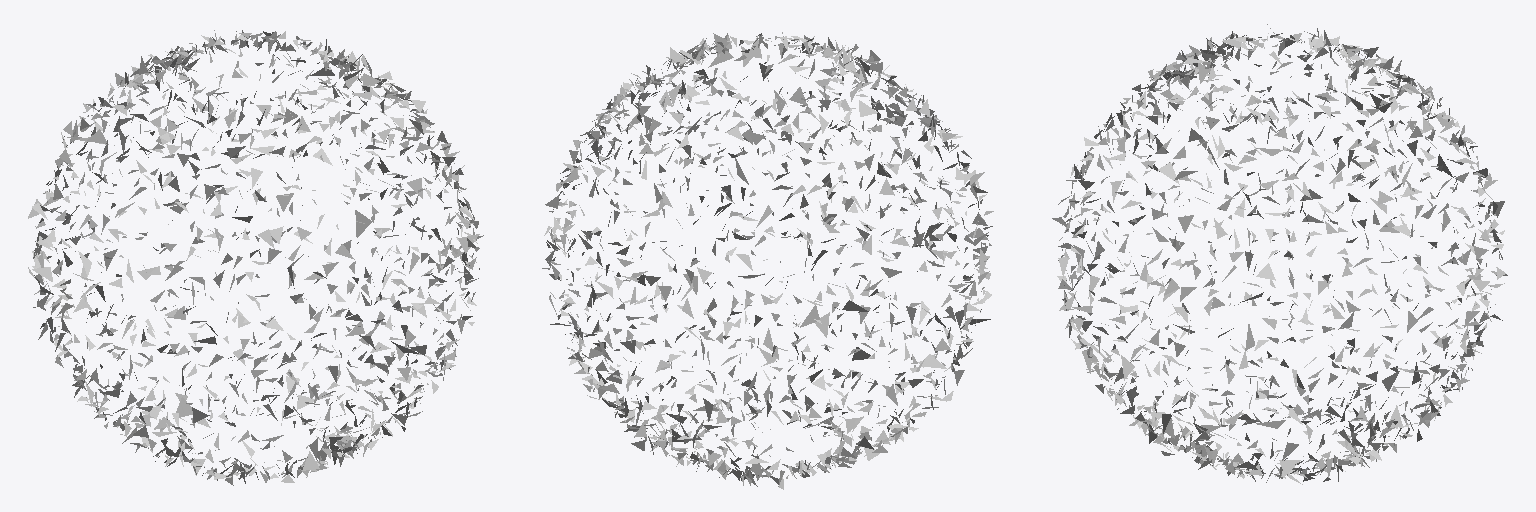
File: triangles.obj
3 views of the same model, side by side, from view 1: azimuth 30°, elevation 25°; view 2: azimuth 150°, elevation 25°; view 3: azimuth 270°, elevation 25° (orthographic).
Parts seen in each view (by area): view 1: Sphere; view 2: Sphere; view 3: Sphere.
Part boxes in pixels (left/top/right/bottom): Sphere: left=28, top=30, right=483, bottom=485; Sphere: left=542, top=32, right=993, bottom=489; Sphere: left=1052, top=24, right=1507, bottom=484.
Size of the model in its own units: 2.81 by 2.73 by 2.83.